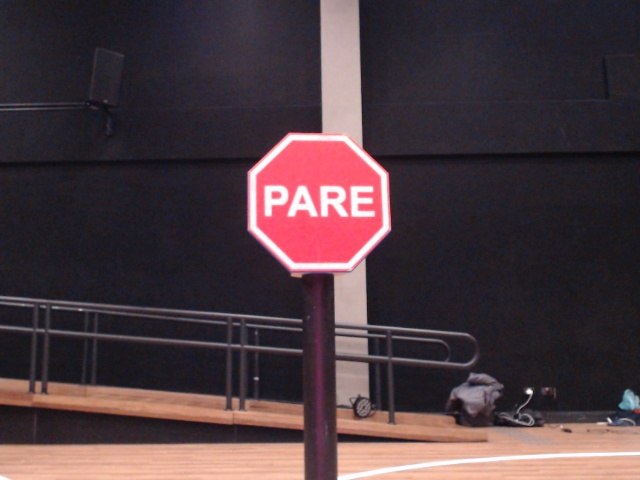SEMAFORO: (188, 101, 459, 350)
